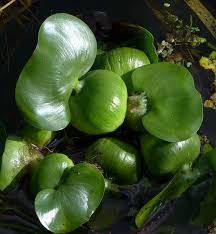water_hyacinth: (2, 11, 204, 233)
